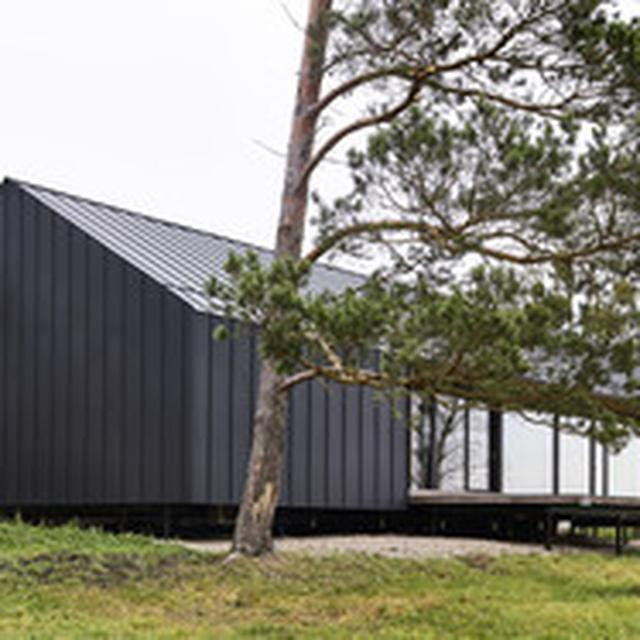building: (0, 172, 640, 524)
